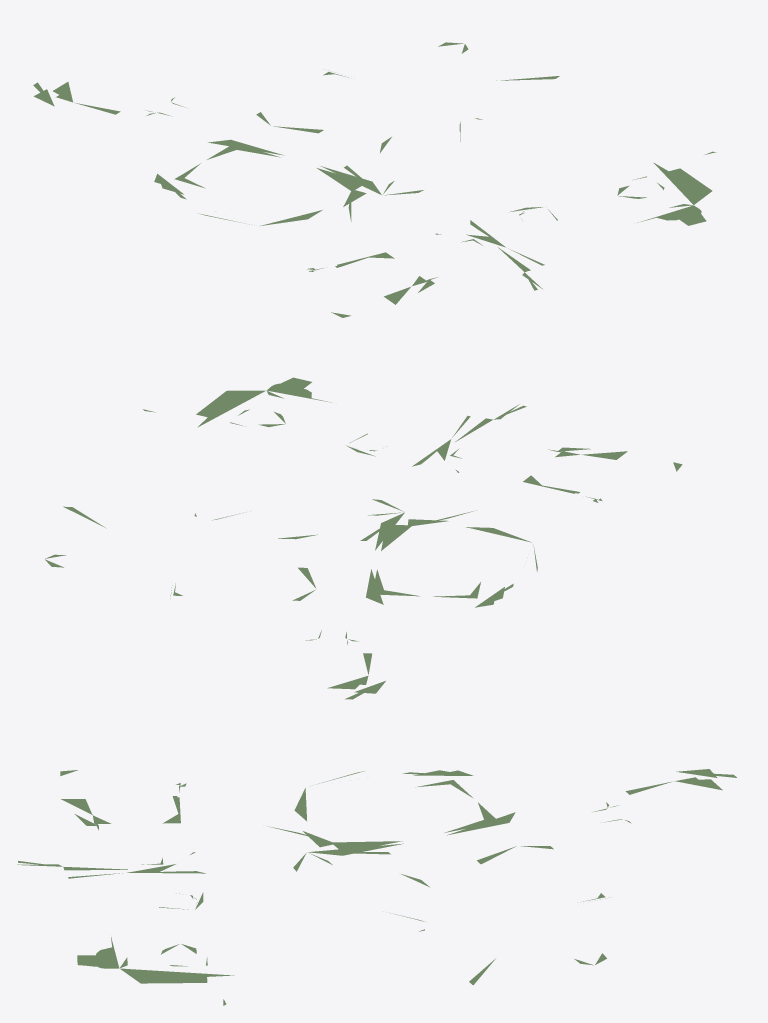
The model's file is c_1643_17815_parks.glb.
3 views of the same model, one above another, from view 1: azimuth 30°, elevation 25°; view 2: azimuth 150°, elevation 25°; view 3: azimuth 270°, elevation 25° (orthographic). The views are drawn at different scales.
Visible parts, largest first — view 1: geometry_0; view 2: geometry_0; view 3: geometry_0.
Part boxes in pixels (x1=…): geometry_0: x1=33, y1=42, x2=716, y2=317; geometry_0: x1=45, y1=377, x2=682, y2=699; geometry_0: x1=17, y1=769, x2=736, y2=1005.
Size of the model in its own units: 257 by 0 by 295.
